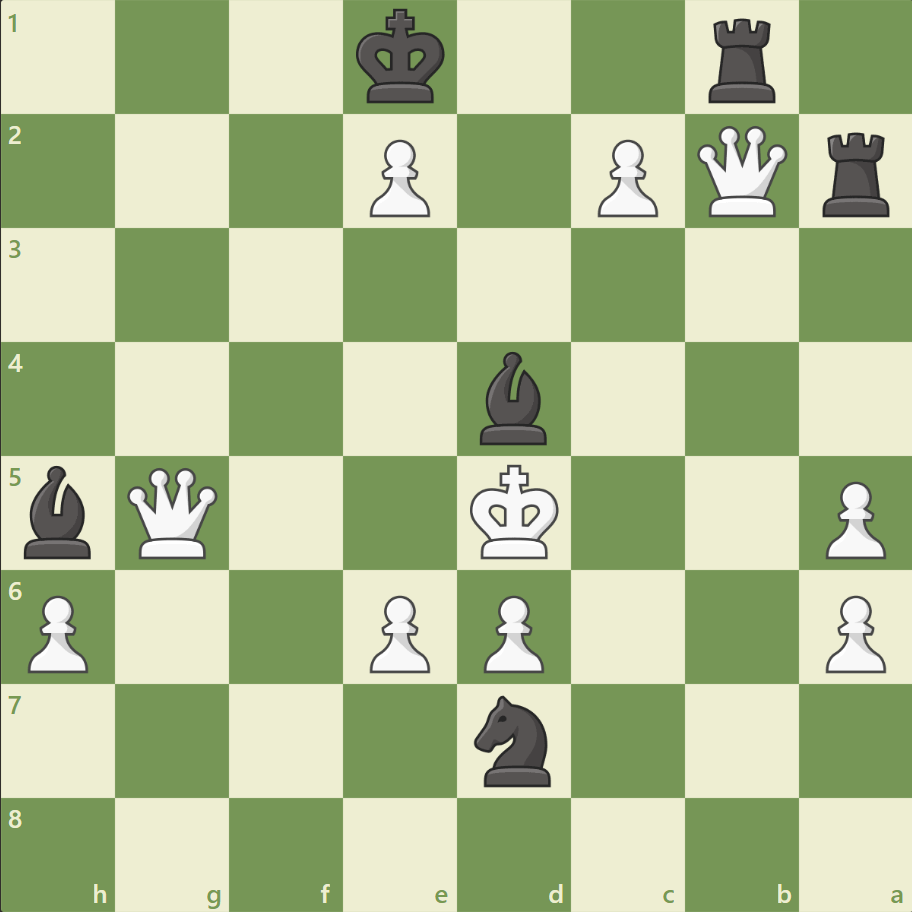K: (465, 458, 565, 566)
P: (474, 586, 549, 677), (20, 586, 95, 677), (815, 586, 889, 677), (361, 586, 435, 677), (815, 473, 889, 564), (588, 132, 662, 223), (361, 132, 435, 223)
Q: (691, 122, 790, 222), (124, 463, 223, 562)
b: (17, 460, 101, 563), (471, 347, 555, 449)
k: (351, 4, 451, 112)
n: (465, 688, 562, 791)
r: (814, 125, 897, 222), (700, 12, 783, 109)
